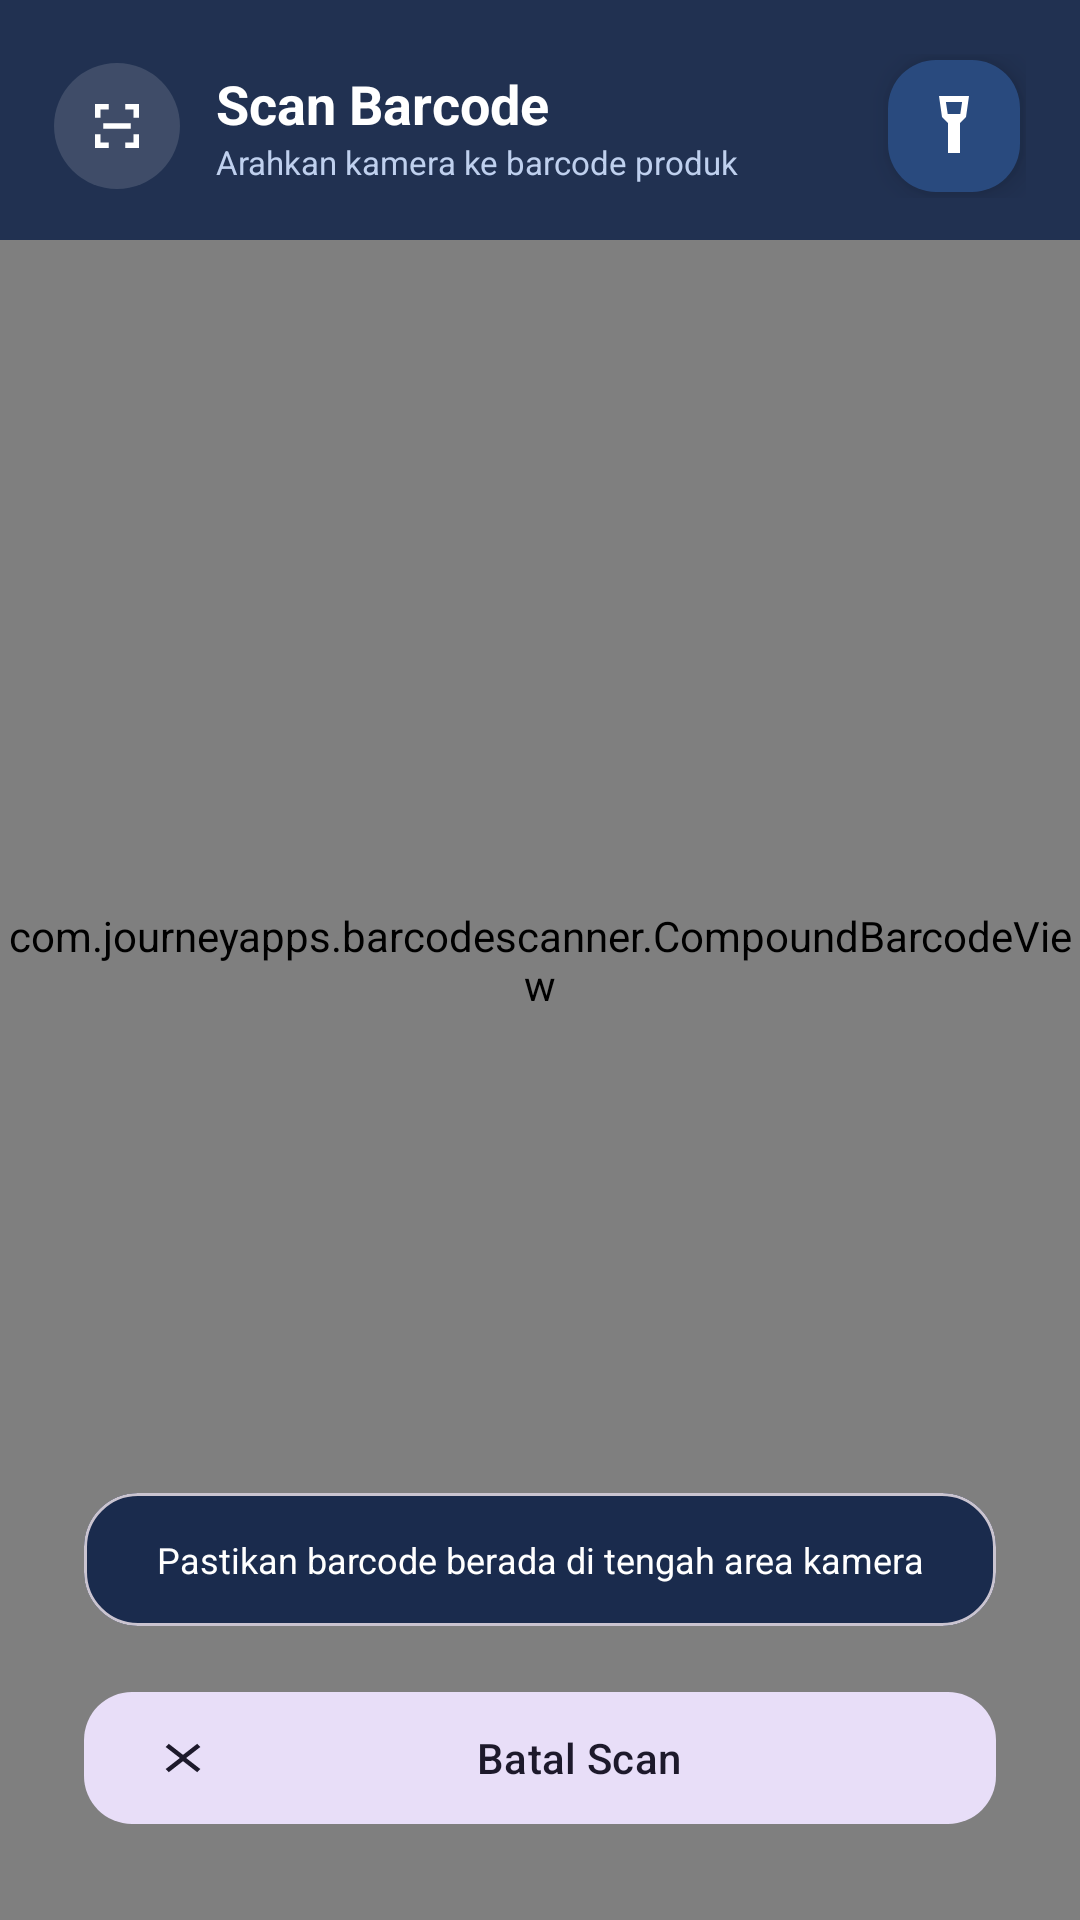

Named icons in this screenshot (1080 x 1920) and their bounding boxes, (x1, y1, x2, y2):
Senter: (888, 60, 1020, 192)
